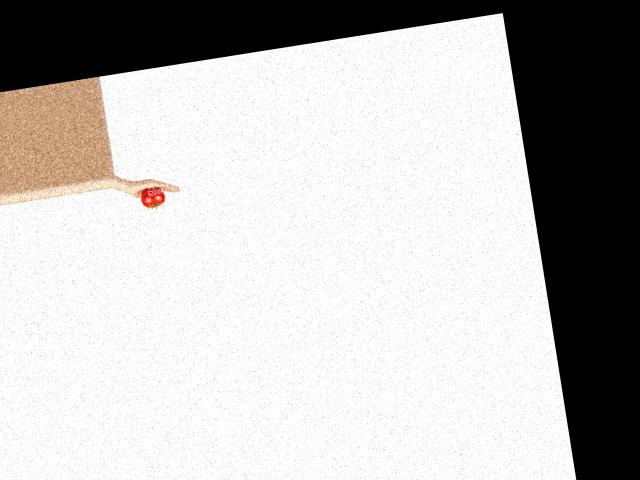tomato: (139, 185, 166, 209)
